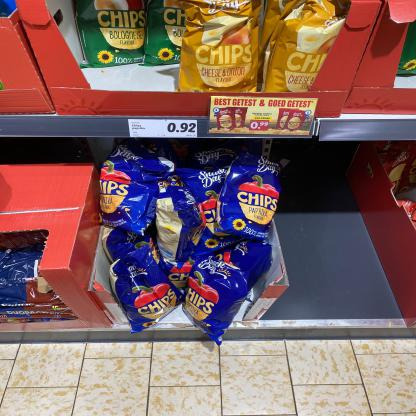prtg: (129, 120, 198, 139)
